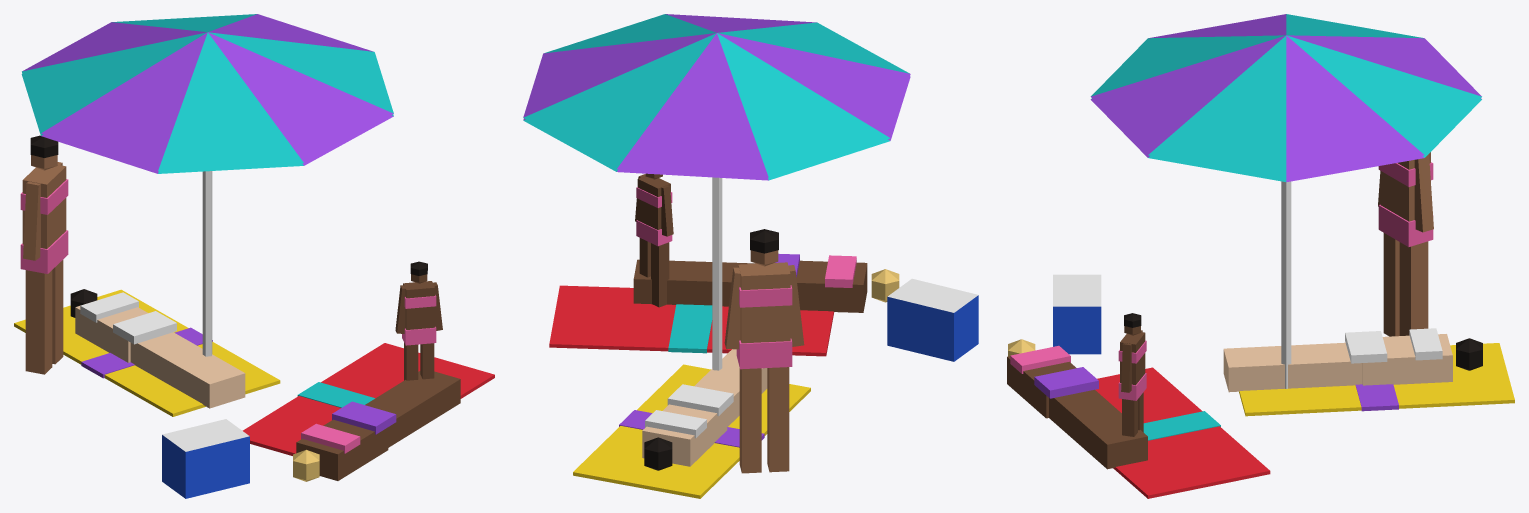
Rendered from playa_grupo_3.obj.
The picture shows the model from 3 angles, left to right: view 1: azimuth 30°, elevation 25°; view 2: azimuth 150°, elevation 25°; view 3: azimuth 270°, elevation 25°; orthographic projection. The views are drawn at different scales.
Parts seen in each view (by area): view 1: playa_grupo_3; view 2: playa_grupo_3; view 3: playa_grupo_3.
Boxes of the visible parts, <box> form: playa_grupo_3: <box>14,14,494,498</box>; playa_grupo_3: <box>523,14,978,498</box>; playa_grupo_3: <box>1007,14,1514,498</box>.
Bounding box in the file's own units: 3.01 × 2.6 × 3.37.
